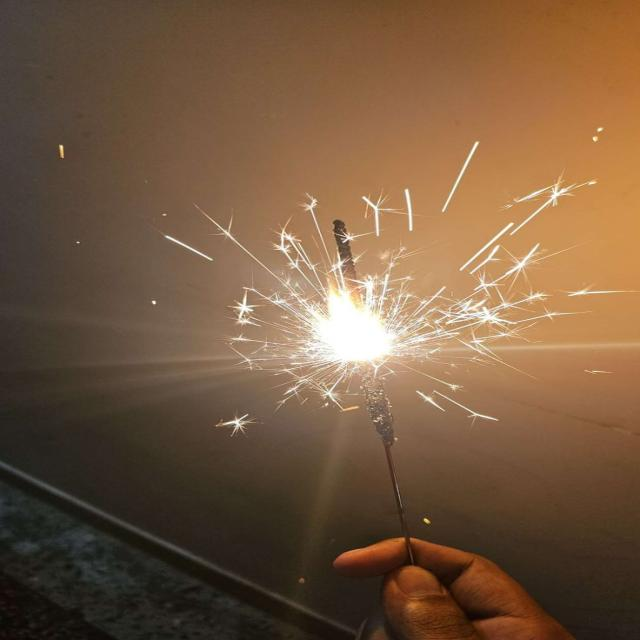fire: (313, 287, 388, 360)
